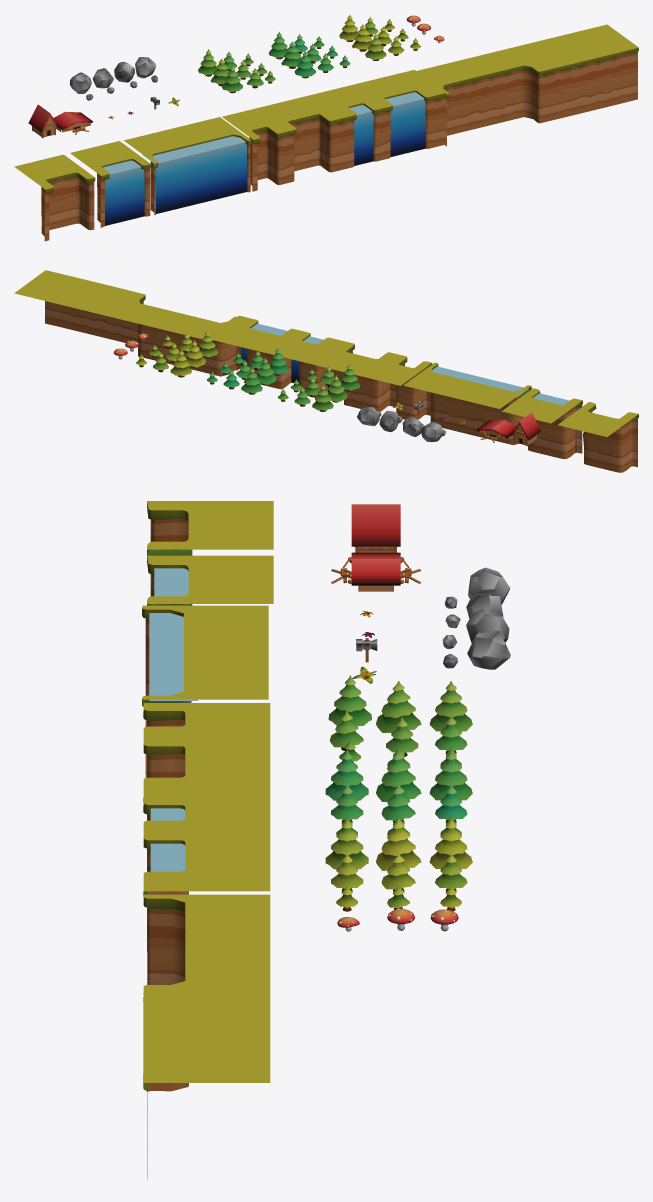
The model's file is SMKG_Assets.fbx.
The picture shows the model from 3 angles, top to bottom: view 1: azimuth 30°, elevation 25°; view 2: azimuth 150°, elevation 25°; view 3: azimuth 270°, elevation 25°; orthographic projection. The views are drawn at different scales.
Visible parts, largest first — view 1: Ground.004, Ground.002, Ground.005, Ground.003, Ground.001, Ground, Ground.006, Hose_Fixed, Hose_Broken, Big_Rock.001, Big_Rock, Pine_Green.006 (+5 smaller); view 2: Ground.002, Ground.004, Ground.003, Ground.005, Ground.001, Ground.006, Ground, Hose_Fixed, Hose_Broken, Big_Rock, Pine_Blue, Pine_Blue.003 (+10 smaller); view 3: Ground.002, Ground.005, Ground.001, Ground.004, Ground.003, Ground.006, Ground, Hose_Fixed, Hose_Broken, Big_Rock.001, Pine_Green.003, Pine_Blue.003 (+8 smaller).
Part boxes in pixels (box(x1,y1,x2,y2)): Ground.004: box(124, 117, 251, 215); Ground.002: box(511, 24, 638, 122); Ground.005: box(318, 69, 446, 167); Ground.003: box(222, 93, 349, 191); Ground.001: box(416, 48, 542, 146); Ground: box(70, 141, 150, 227); Ground.006: box(14, 154, 95, 241); Hose_Fixed: box(28, 104, 59, 138); Hose_Broken: box(53, 111, 92, 134); Big_Rock.001: box(135, 57, 156, 78); Big_Rock: box(70, 72, 91, 93); Pine_Green.006: box(222, 65, 242, 93); Ground.002: box(14, 270, 141, 342); Ground.004: box(403, 362, 531, 445); Ground.003: box(304, 339, 432, 419); Ground.005: box(210, 315, 335, 397); Ground.001: box(111, 294, 238, 376); Ground.006: box(558, 402, 638, 472); Ground: box(502, 388, 582, 459); Hose_Fixed: box(510, 412, 540, 446); Hose_Broken: box(476, 420, 515, 442); Big_Rock: box(421, 421, 442, 441); Pine_Blue: box(241, 367, 262, 394); Pine_Blue.003: box(256, 357, 276, 385); Ground.002: box(143, 988, 270, 1178); Ground.005: box(143, 797, 270, 979); Ground.001: box(143, 894, 270, 1091); Ground.004: box(142, 605, 268, 777); Ground.003: box(143, 703, 270, 802); Ground.006: box(147, 501, 273, 555); Ground: box(147, 555, 273, 702); Hose_Fixed: box(351, 504, 400, 552); Hose_Broken: box(331, 552, 420, 591); Big_Rock.001: box(467, 630, 510, 669); Pine_Green.003: box(376, 680, 421, 732); Pine_Blue.003: box(376, 749, 421, 801).
Bounding box in the file's own units: 19666 × 2641 × 5302.
